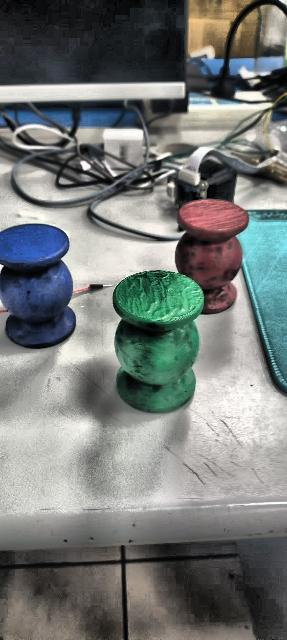blue: (0, 222, 76, 348)
green: (113, 269, 205, 413)
red: (173, 199, 255, 316)
